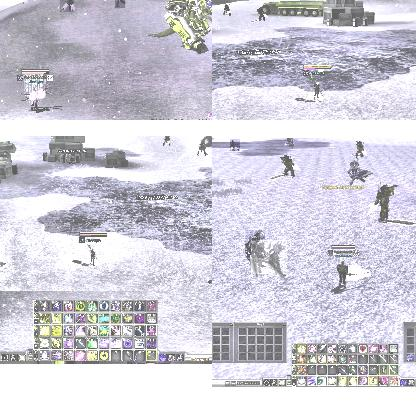caliana: (269, 240, 287, 276), (251, 240, 269, 274), (245, 230, 265, 258), (60, 0, 74, 12), (230, 139, 240, 151), (115, 0, 125, 8), (16, 0, 28, 3)
